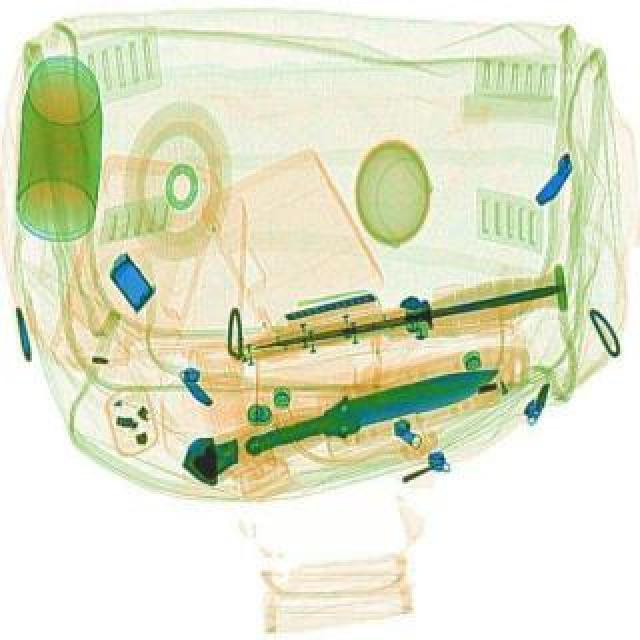knife: (246, 262, 570, 370), (238, 350, 504, 462)
